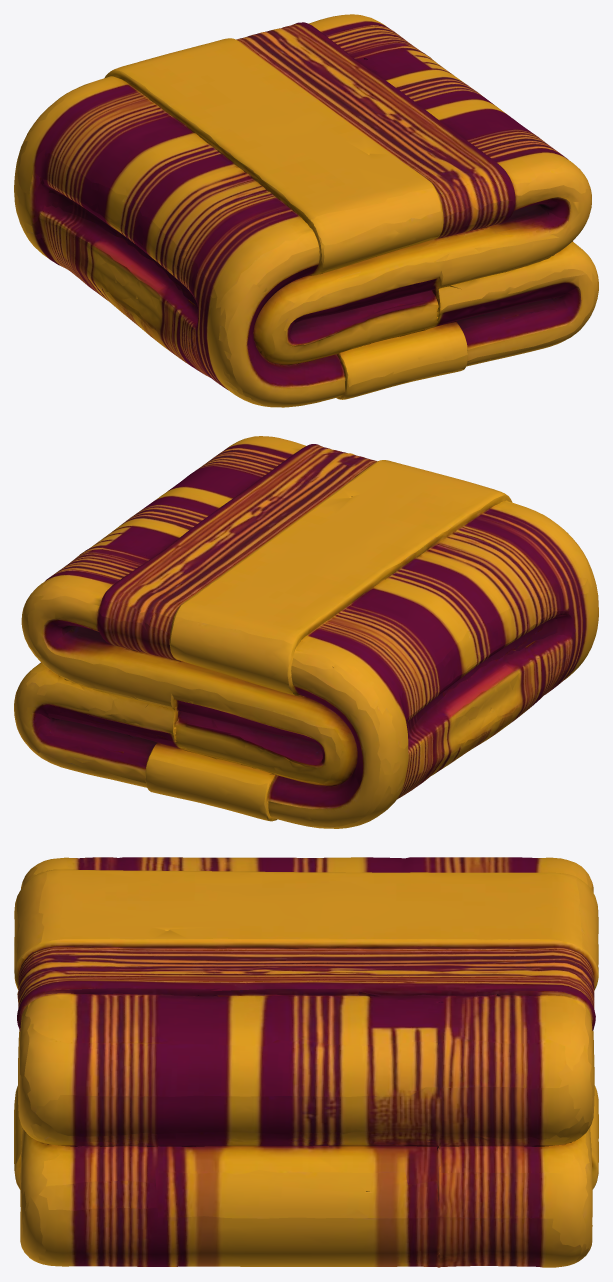
Rendered from aso_oke.glb.
The picture shows the model from 3 angles, top to bottom: view 1: azimuth 30°, elevation 25°; view 2: azimuth 150°, elevation 25°; view 3: azimuth 270°, elevation 25°; orthographic projection. The views are drawn at different scales.
Visible parts, largest first — view 1: geometry_0; view 2: geometry_0; view 3: geometry_0.
Boxes of the visible parts, x1,y1,x2,y2 form: geometry_0: [14, 14, 598, 407]; geometry_0: [14, 436, 598, 828]; geometry_0: [14, 857, 598, 1267].
Size of the model in its own units: 0.45 by 0.2169 by 0.4579.
1 material, 1 textured.
